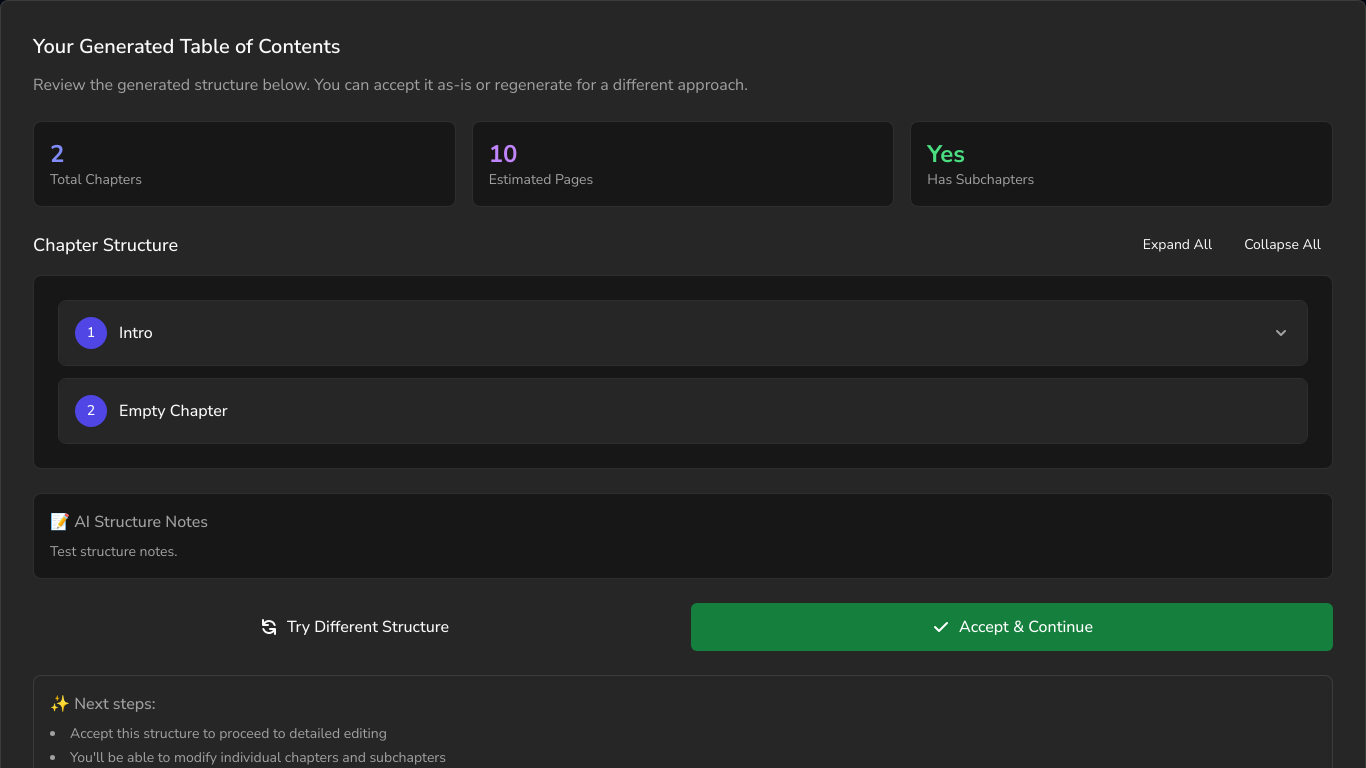
Scenario: TocReview structure rendering › renders deeply nested subchapters and empty chapters
This screenshot has width=1366, height=768.
Expected: the heading "Intro" is shown, x1=119 y1=321 x2=153 y2=345
Expected: the heading "Empty Chapter" is shown, x1=119 y1=399 x2=228 y2=423
Click the text "1 Intro": (683, 333) x1=59 y1=301 x2=1307 y2=365
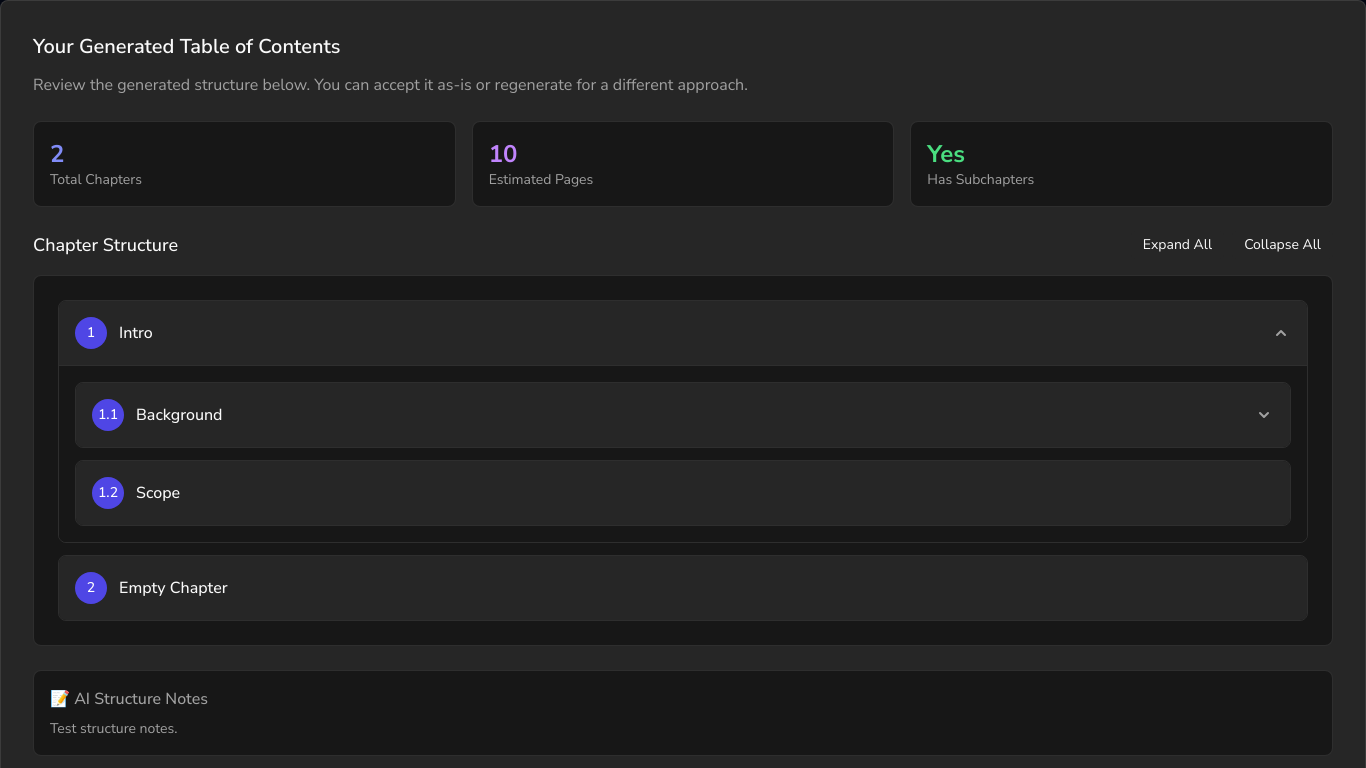
Result: the heading "Background" is shown at x1=136 y1=403 x2=222 y2=427
Result: the heading "Scope" is shown at x1=136 y1=481 x2=180 y2=505
Result: the text "1.1 Background" is shown
Click the text "1.1 Background": (683, 415) x1=76 y1=383 x2=1290 y2=447
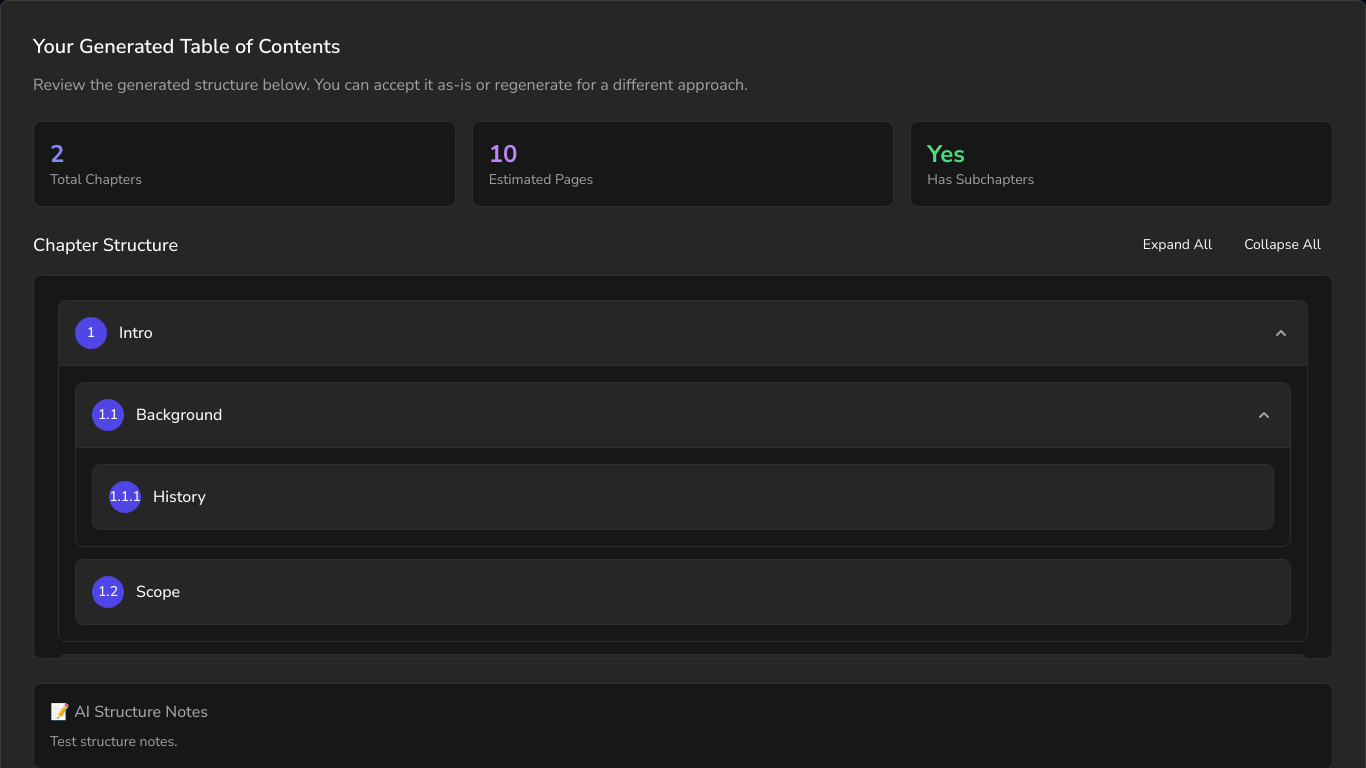
Result: the heading "History" is shown at x1=153 y1=485 x2=206 y2=509
